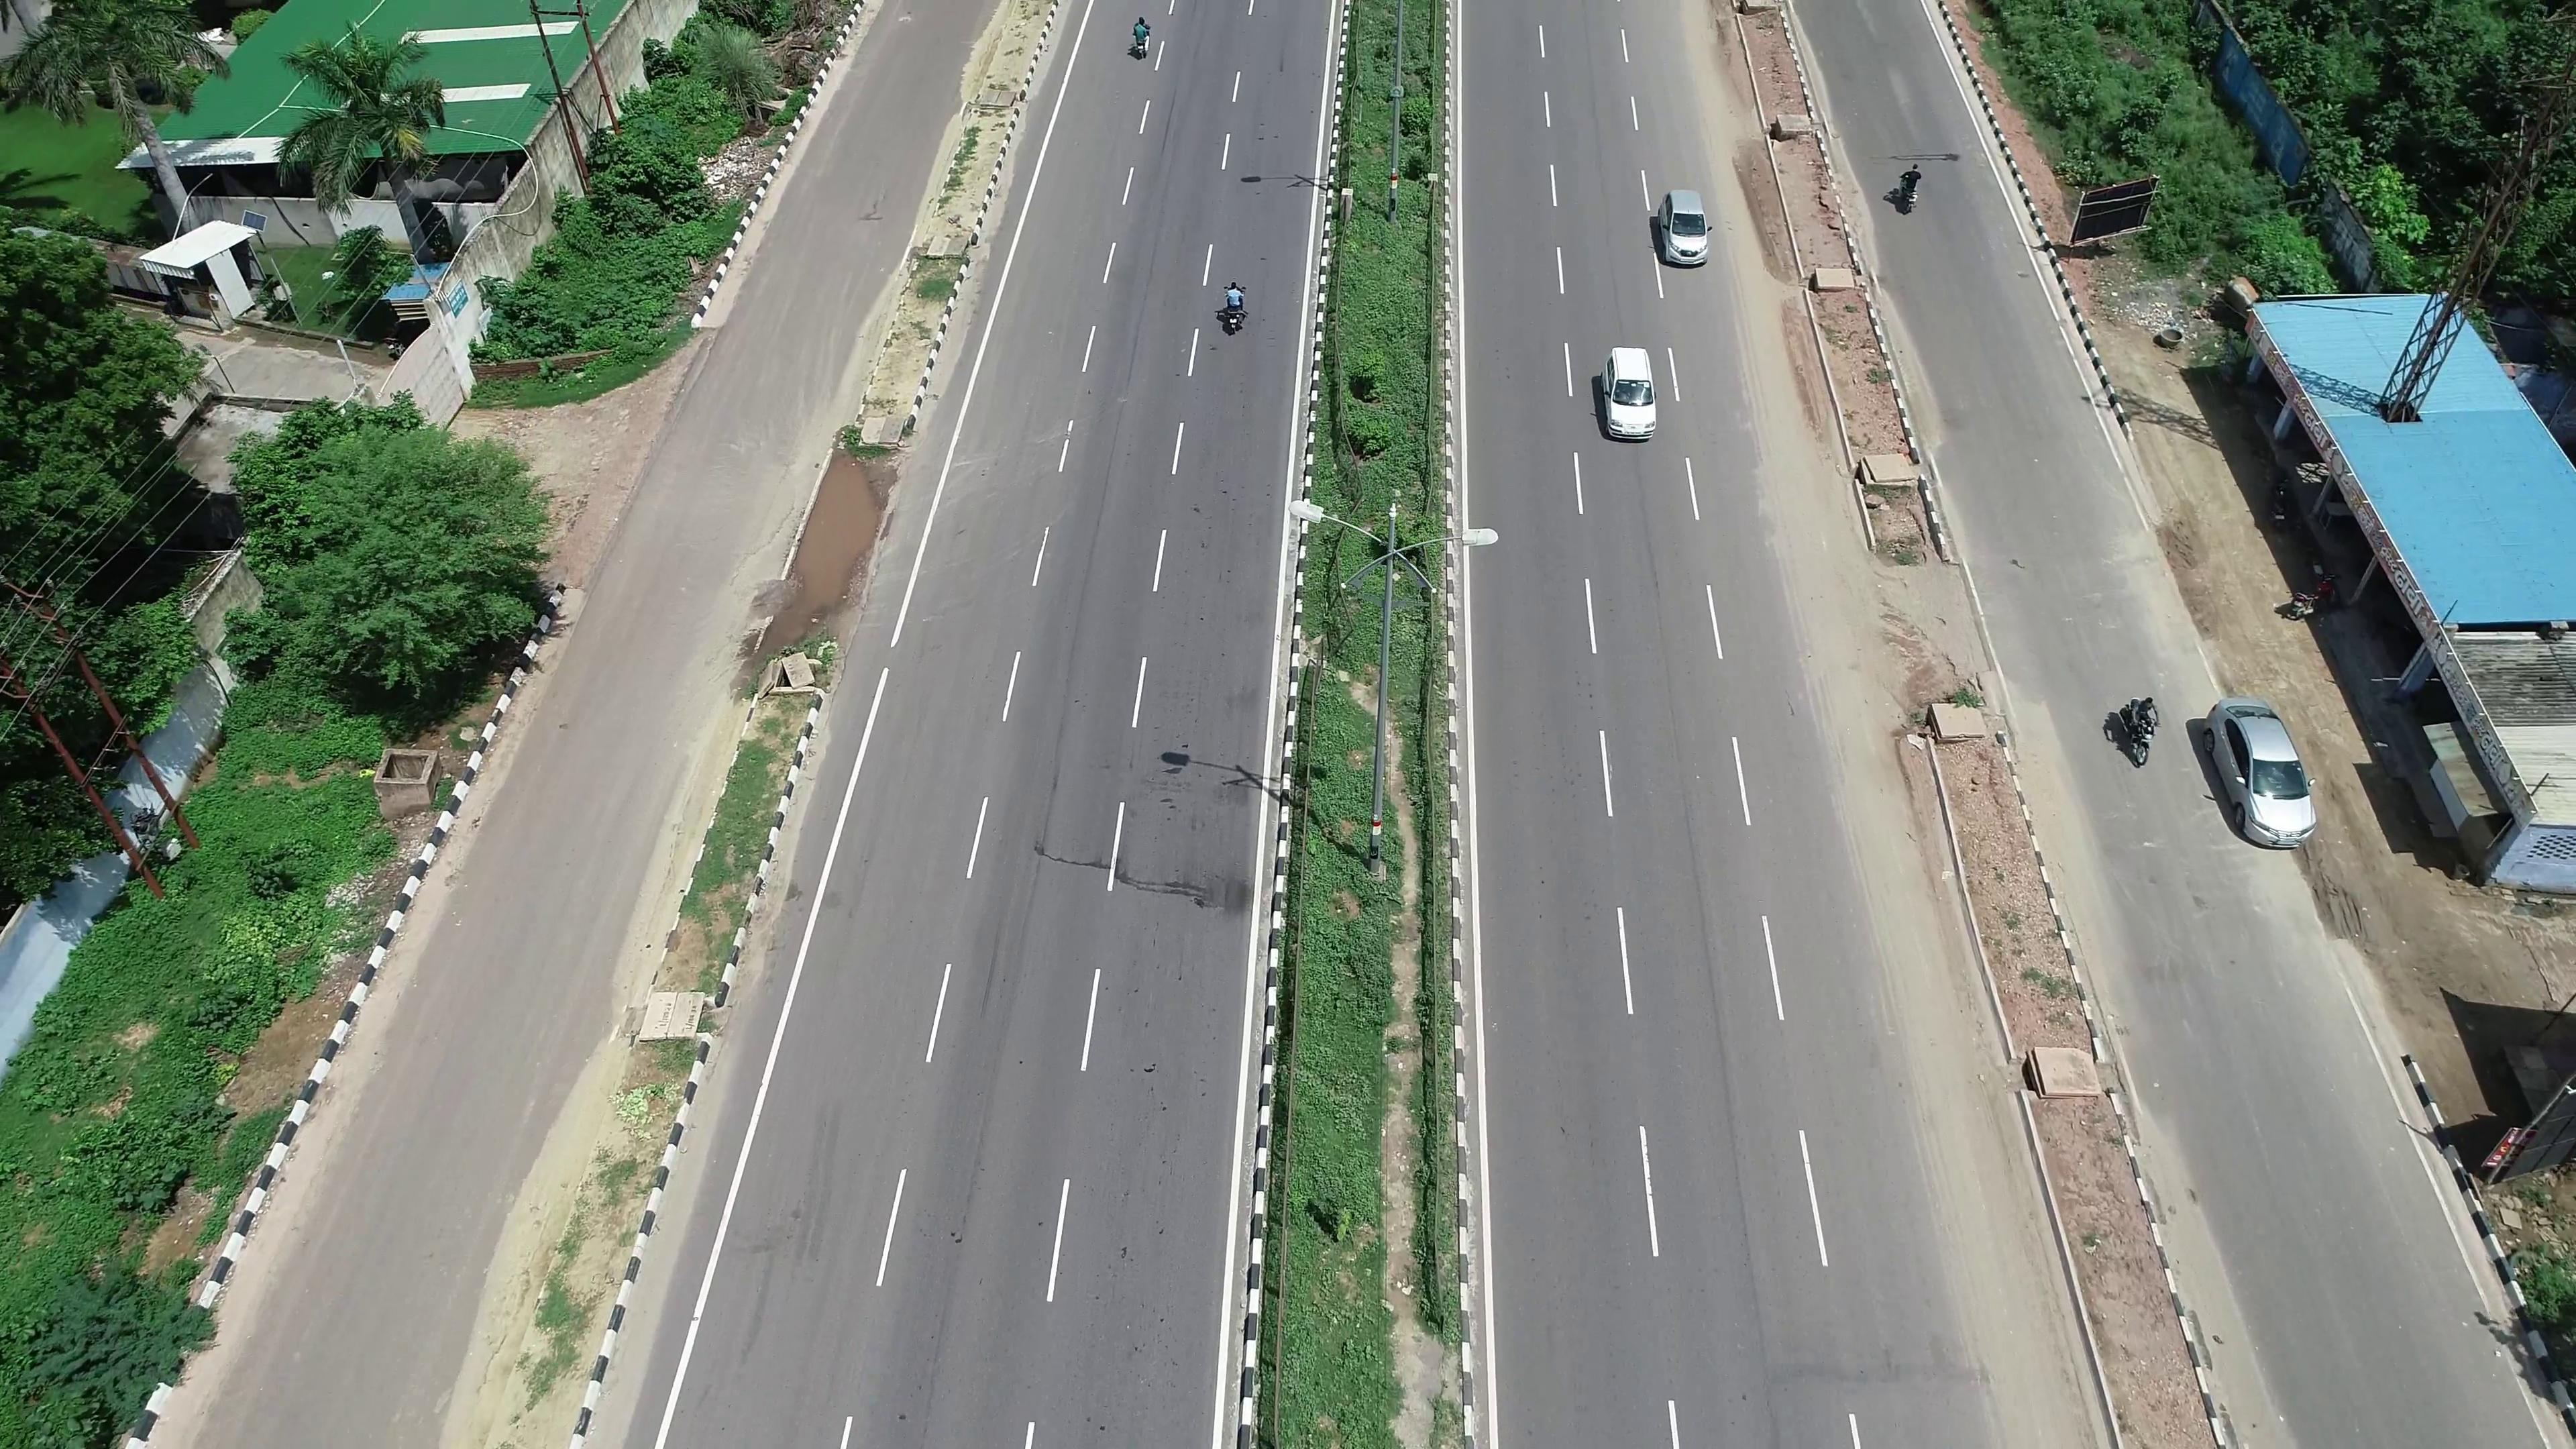Muddy_road: (1907, 987, 2033, 1307), (1714, 143, 1785, 299), (1755, 304, 1817, 469)
